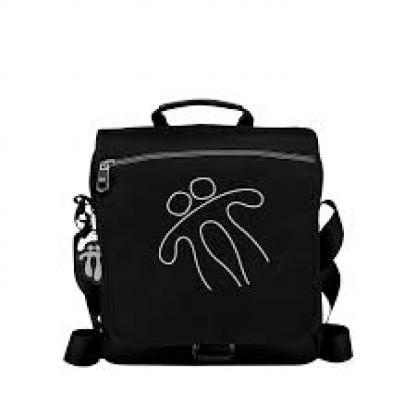morral: (41, 96, 377, 381)
